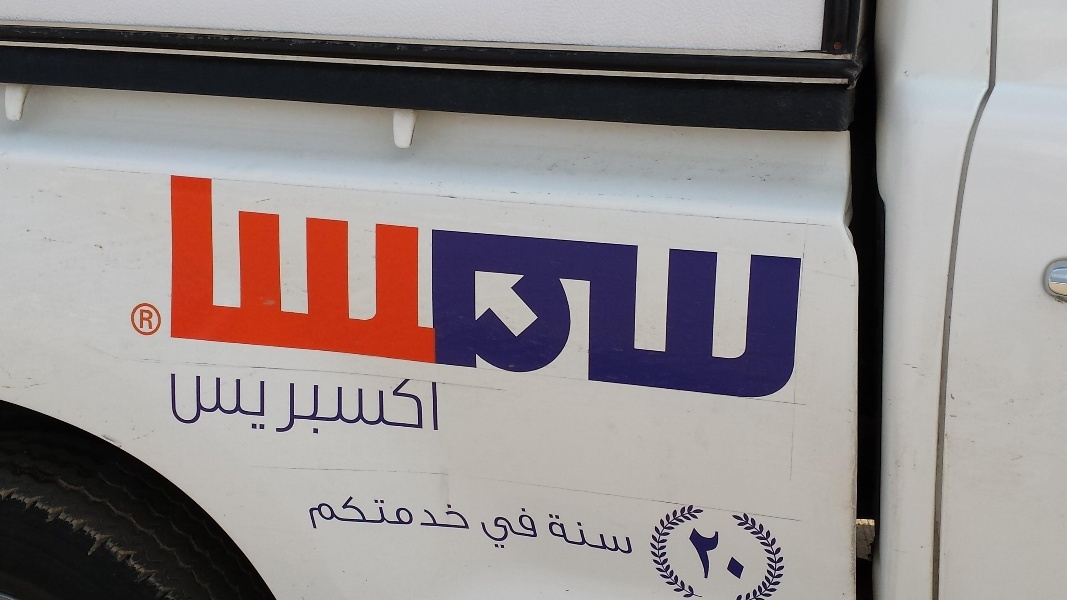text: (177, 371, 192, 436), (193, 371, 208, 436), (209, 371, 224, 436), (225, 371, 240, 436), (241, 371, 256, 436), (257, 371, 272, 436), (273, 371, 288, 436), (289, 371, 304, 436), (305, 371, 320, 436), (321, 371, 336, 436), (337, 371, 352, 436), (353, 371, 368, 436), (369, 371, 384, 436), (385, 371, 400, 436), (401, 371, 416, 436), (417, 371, 432, 436), (689, 527, 704, 580), (705, 527, 720, 580), (721, 527, 736, 580), (481, 505, 496, 550), (497, 505, 512, 550), (513, 505, 528, 550), (561, 513, 576, 556), (577, 513, 592, 556), (593, 513, 608, 556), (609, 513, 624, 556), (321, 492, 336, 533), (337, 492, 352, 533), (353, 492, 368, 533), (369, 492, 384, 533), (385, 492, 400, 533), (401, 492, 416, 533), (417, 492, 432, 533), (433, 492, 448, 533), (449, 492, 464, 533), (529, 505, 541, 550), (433, 371, 441, 436), (548, 513, 560, 556), (737, 527, 746, 580), (309, 492, 320, 533), (170, 371, 176, 436), (625, 513, 634, 556), (145, 305, 155, 333), (465, 492, 471, 533), (138, 305, 144, 333)
